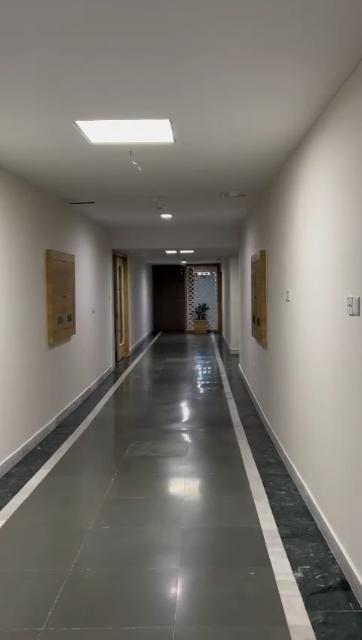door: (112, 252, 130, 358)
floor: (0, 330, 359, 639)
object: (192, 304, 210, 334)
wall: (236, 69, 361, 583), (0, 164, 110, 462), (222, 262, 244, 342), (130, 259, 152, 337)
